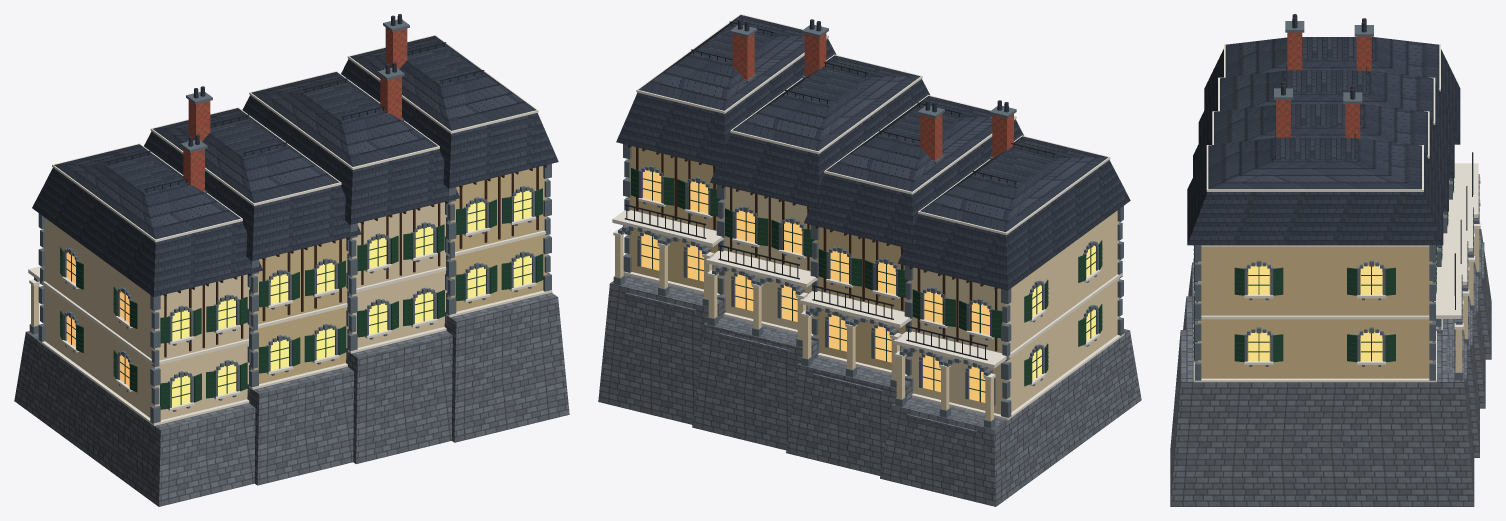
Rendered from fv_hb_06_tang_bat_ho_french_arcade_shophouses.glb.
3 views of the same model, side by side, from view 1: azimuth 30°, elevation 25°; view 2: azimuth 150°, elevation 25°; view 3: azimuth 270°, elevation 25° (orthographic). The views are drawn at different scales.
Parts seen in each view (by area): view 1: Stepped_Normandy_Brittany_Roof, Foundation_Skirt_Neg3p5m, Shophouse_Stucco_Primary, Stone_Quoins_And_Arches, PineGreen_Louvered_Shutters, Shophouse_Stucco_Accent, Molded_Cornices_And_Sills, Warm_Night_Windows_20h00_Blend, Brick_Chimney_Stacks, Exposed_Timber_Trusses_And_Rafters, Wrought_Iron_Balustrades_And_Lamps, Villa_Interior_Backing; view 2: Stepped_Normandy_Brittany_Roof, Foundation_Skirt_Neg3p5m, Shophouse_Stucco_Primary, Molded_Cornices_And_Sills, Stone_Quoins_And_Arches, Warm_Night_Windows_20h00_Blend, Shophouse_Stucco_Accent, PineGreen_Louvered_Shutters, Brick_Chimney_Stacks, Wrought_Iron_Balustrades_And_Lamps, Exposed_Timber_Trusses_And_Rafters, Villa_Interior_Backing; view 3: Stepped_Normandy_Brittany_Roof, Foundation_Skirt_Neg3p5m, Shophouse_Stucco_Accent, Molded_Cornices_And_Sills, Stone_Quoins_And_Arches, PineGreen_Louvered_Shutters, Warm_Night_Windows_20h00_Blend, Brick_Chimney_Stacks, Shophouse_Stucco_Primary, Wrought_Iron_Balustrades_And_Lamps.
Boxes of the visible parts, bbox=[...] form: Stepped_Normandy_Brittany_Roof: bbox=[32, 14, 558, 296]; Foundation_Skirt_Neg3p5m: bbox=[14, 68, 569, 506]; Shophouse_Stucco_Primary: bbox=[31, 202, 447, 420]; Stone_Quoins_And_Arches: bbox=[29, 19, 551, 423]; PineGreen_Louvered_Shutters: bbox=[60, 188, 543, 409]; Shophouse_Stucco_Accent: bbox=[252, 166, 547, 384]; Molded_Cornices_And_Sills: bbox=[28, 35, 552, 425]; Warm_Night_Windows_20h00_Blend: bbox=[66, 190, 531, 406]; Brick_Chimney_Stacks: bbox=[183, 27, 407, 191]; Exposed_Timber_Trusses_And_Rafters: bbox=[163, 165, 546, 357]; Wrought_Iron_Balustrades_And_Lamps: bbox=[42, 42, 484, 267]; Villa_Interior_Backing: bbox=[68, 191, 530, 405]; Stepped_Normandy_Brittany_Roof: bbox=[616, 15, 1130, 290]; Foundation_Skirt_Neg3p5m: bbox=[598, 74, 1141, 506]; Shophouse_Stucco_Primary: bbox=[615, 186, 1118, 420]; Molded_Cornices_And_Sills: bbox=[612, 14, 1124, 420]; Stone_Quoins_And_Arches: bbox=[613, 25, 1123, 428]; Warm_Night_Windows_20h00_Blend: bbox=[641, 169, 1095, 402]; Shophouse_Stucco_Accent: bbox=[627, 146, 908, 373]; PineGreen_Louvered_Shutters: bbox=[631, 168, 1102, 401]; Brick_Chimney_Stacks: bbox=[732, 33, 1013, 160]; Wrought_Iron_Balustrades_And_Lamps: bbox=[624, 21, 1055, 360]; Exposed_Timber_Trusses_And_Rafters: bbox=[628, 145, 998, 351]; Villa_Interior_Backing: bbox=[643, 170, 1094, 401]; Stepped_Normandy_Brittany_Roof: bbox=[1187, 14, 1460, 245]; Foundation_Skirt_Neg3p5m: bbox=[1170, 229, 1491, 506]; Shophouse_Stucco_Accent: bbox=[1198, 213, 1443, 378]; Molded_Cornices_And_Sills: bbox=[1193, 44, 1480, 382]; Stone_Quoins_And_Arches: bbox=[1194, 21, 1480, 380]; PineGreen_Louvered_Shutters: bbox=[1193, 178, 1454, 362]; Warm_Night_Windows_20h00_Blend: bbox=[1248, 265, 1382, 361]; Brick_Chimney_Stacks: bbox=[1276, 32, 1371, 138]; Shophouse_Stucco_Primary: bbox=[1436, 180, 1479, 372]; Wrought_Iron_Balustrades_And_Lamps: bbox=[1275, 36, 1473, 309].
Bounding box in the file's own units: 23.95 × 20.27 × 15.74.
Materials: 12 (3 with a texture image).
